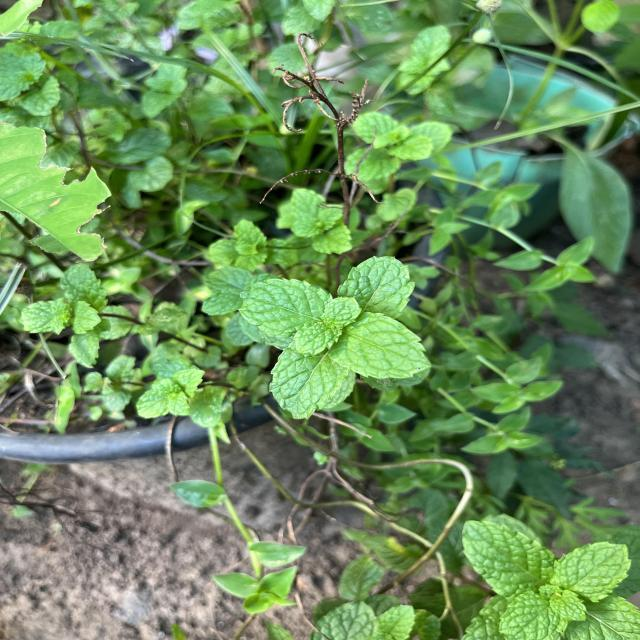Mentha spicata: (326, 310, 434, 380), (267, 341, 350, 421), (238, 276, 332, 340), (337, 254, 416, 318)
